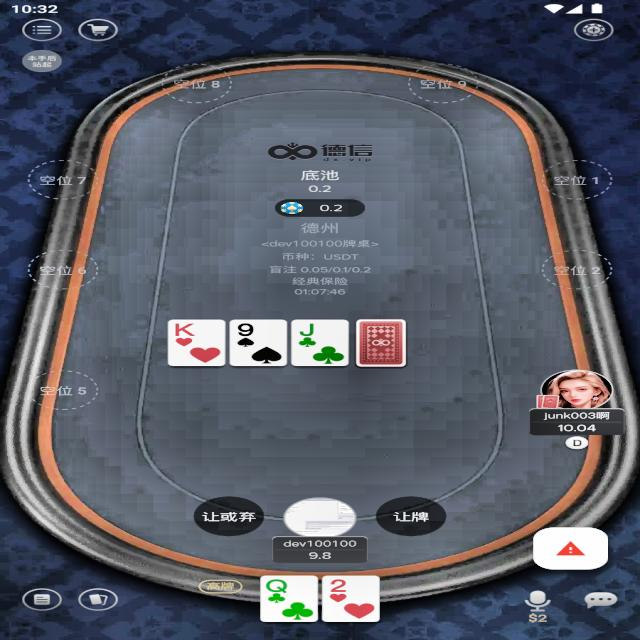2h: (326, 578, 350, 594)
9s: (234, 321, 258, 338)
Jm: (295, 321, 320, 337)
Kh: (172, 322, 198, 338)
Qm: (264, 578, 290, 594)
